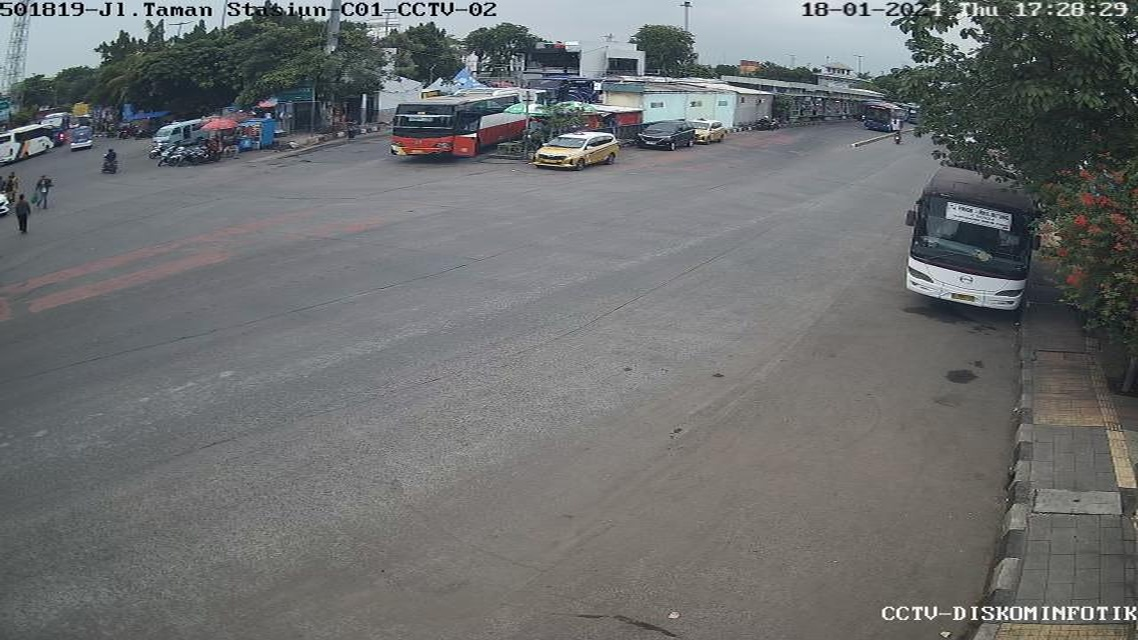Gerobak: (235, 114, 280, 151)
